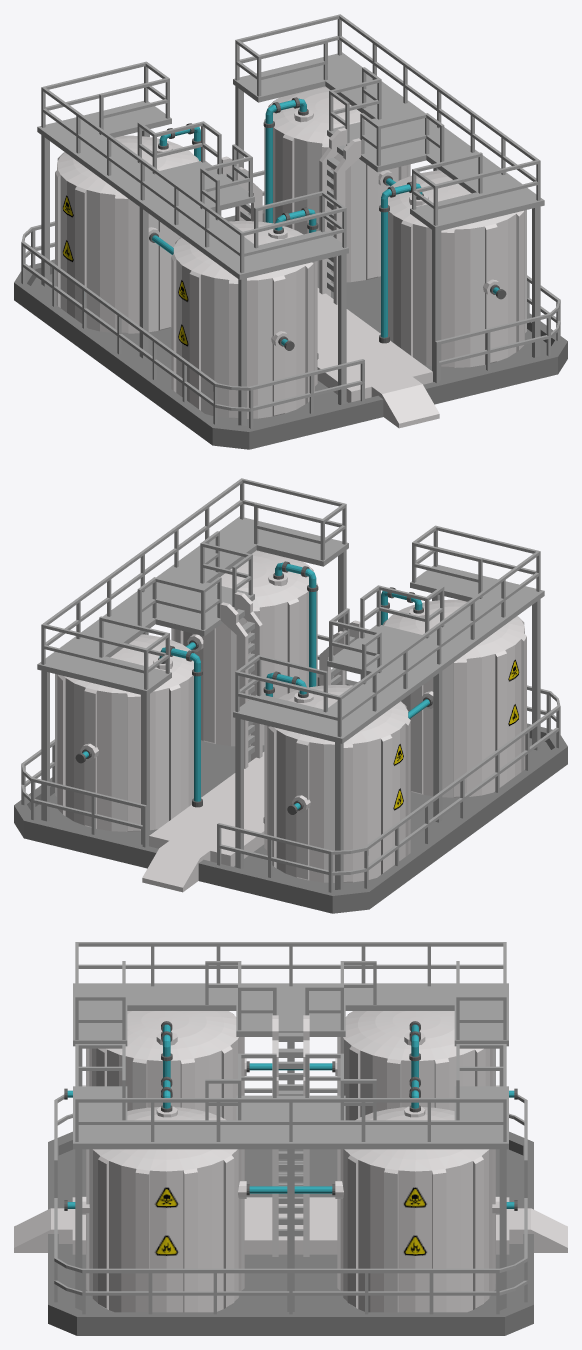
Rendered from tanques_cuatro.obj.
3 views of the same model, one above another, from view 1: azimuth 30°, elevation 25°; view 2: azimuth 150°, elevation 25°; view 3: azimuth 270°, elevation 25° (orthographic). The views are drawn at different scales.
Parts seen in each view (by area): view 1: export_Fuel_tank_4_; view 2: export_Fuel_tank_4_; view 3: export_Fuel_tank_4_.
Part boxes in pixels (x1,y1,x2,y2): export_Fuel_tank_4_: (14, 14, 567, 449); export_Fuel_tank_4_: (14, 478, 567, 913); export_Fuel_tank_4_: (14, 942, 567, 1335).
Bounding box in the file's own units: 1.81 × 1 × 2.26.
1 material, 1 textured.
